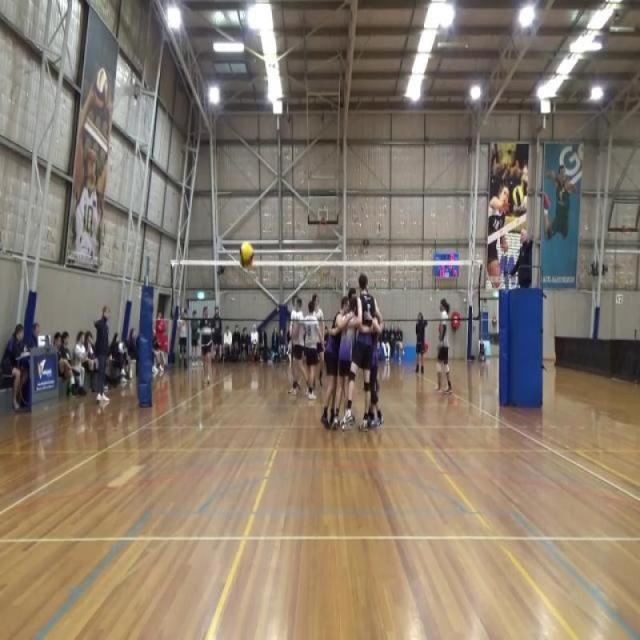volleyball: (94, 67, 109, 110), (239, 240, 254, 271), (512, 185, 525, 208)
